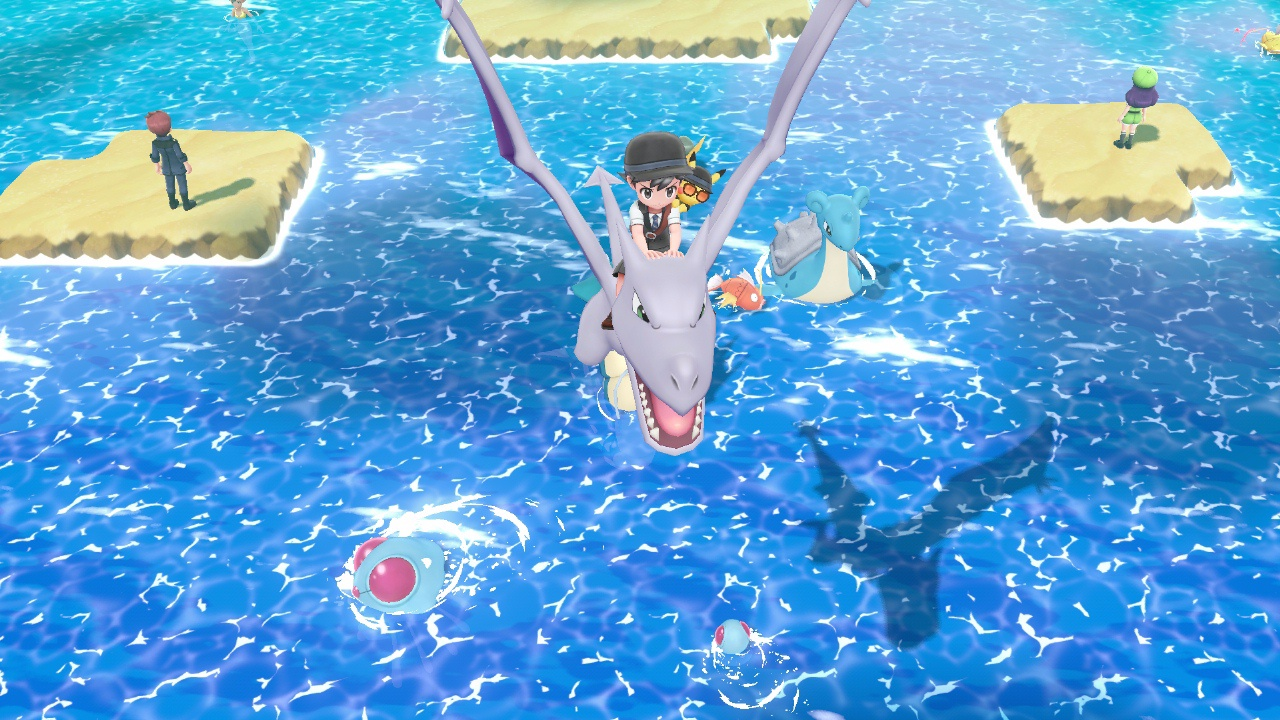Golden: (1258, 28, 1280, 59)
Red: (706, 267, 764, 314)
